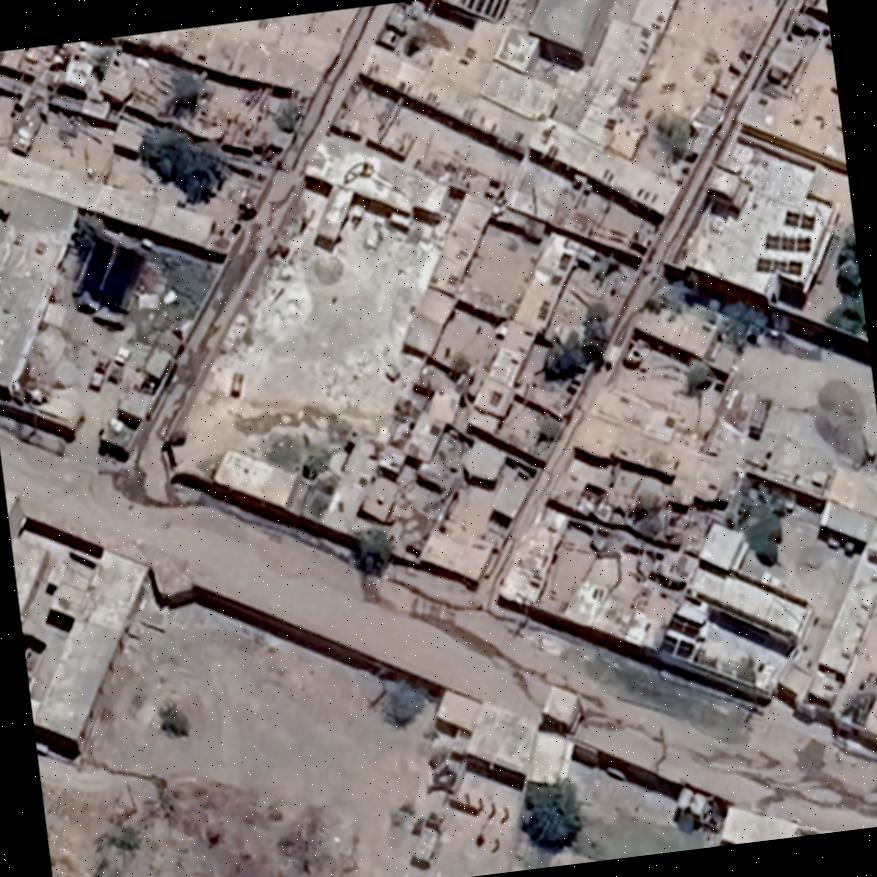Solarpanel: (761, 228, 816, 254), (753, 251, 808, 276), (777, 204, 821, 234)
